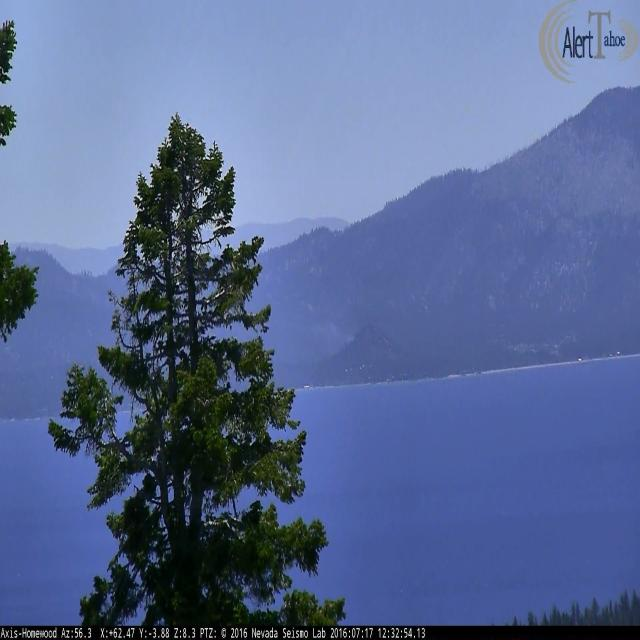smoke: (323, 324, 357, 358)
